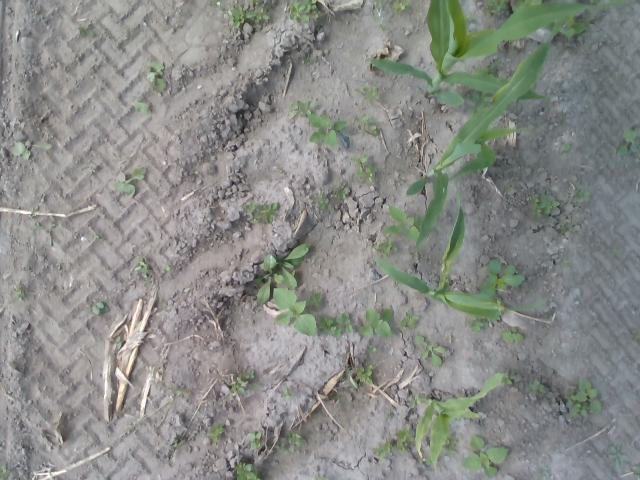Maize: (407, 15, 567, 255), (368, 0, 632, 107), (374, 189, 549, 320), (414, 373, 504, 473)
Weeds: (253, 243, 310, 305), (272, 286, 322, 338), (460, 436, 510, 478), (477, 260, 526, 297), (384, 205, 426, 241), (565, 379, 602, 416), (308, 112, 348, 146), (228, 0, 270, 28), (544, 14, 591, 38), (360, 306, 393, 338), (414, 336, 446, 368), (114, 169, 146, 197), (320, 312, 354, 338), (350, 153, 378, 183), (529, 194, 560, 221), (245, 201, 279, 224), (10, 142, 52, 160), (275, 431, 307, 454), (230, 370, 258, 395), (468, 88, 493, 116), (289, 0, 319, 21), (617, 128, 640, 155), (393, 426, 415, 453), (468, 314, 500, 332), (148, 60, 166, 92), (348, 364, 373, 387), (470, 59, 500, 78), (356, 114, 378, 138), (372, 238, 398, 258), (607, 446, 629, 468), (396, 310, 420, 330), (136, 256, 152, 286), (236, 462, 262, 480), (355, 85, 379, 103), (290, 100, 314, 118), (439, 432, 458, 454), (307, 192, 329, 210), (501, 326, 524, 343), (484, 0, 508, 16), (527, 378, 548, 396), (32, 217, 58, 231), (374, 442, 392, 462), (498, 370, 520, 386), (408, 393, 432, 407), (209, 423, 225, 442), (132, 101, 153, 115), (572, 188, 590, 204), (392, 0, 410, 16), (332, 184, 350, 200), (560, 220, 579, 235), (90, 300, 108, 315), (394, 167, 408, 185), (248, 432, 262, 450), (512, 0, 543, 8), (77, 24, 96, 37), (0, 462, 11, 480), (298, 53, 312, 67), (14, 287, 26, 301), (210, 0, 225, 11), (279, 388, 292, 400), (630, 329, 640, 341), (173, 438, 185, 448), (561, 142, 571, 153), (374, 0, 384, 10), (368, 344, 378, 354), (115, 336, 122, 348), (424, 456, 432, 465), (314, 475, 328, 480), (610, 248, 619, 255), (463, 13, 472, 20), (538, 471, 548, 477), (560, 260, 568, 267), (636, 464, 640, 478), (379, 23, 386, 30), (588, 0, 600, 4), (92, 234, 100, 240)
